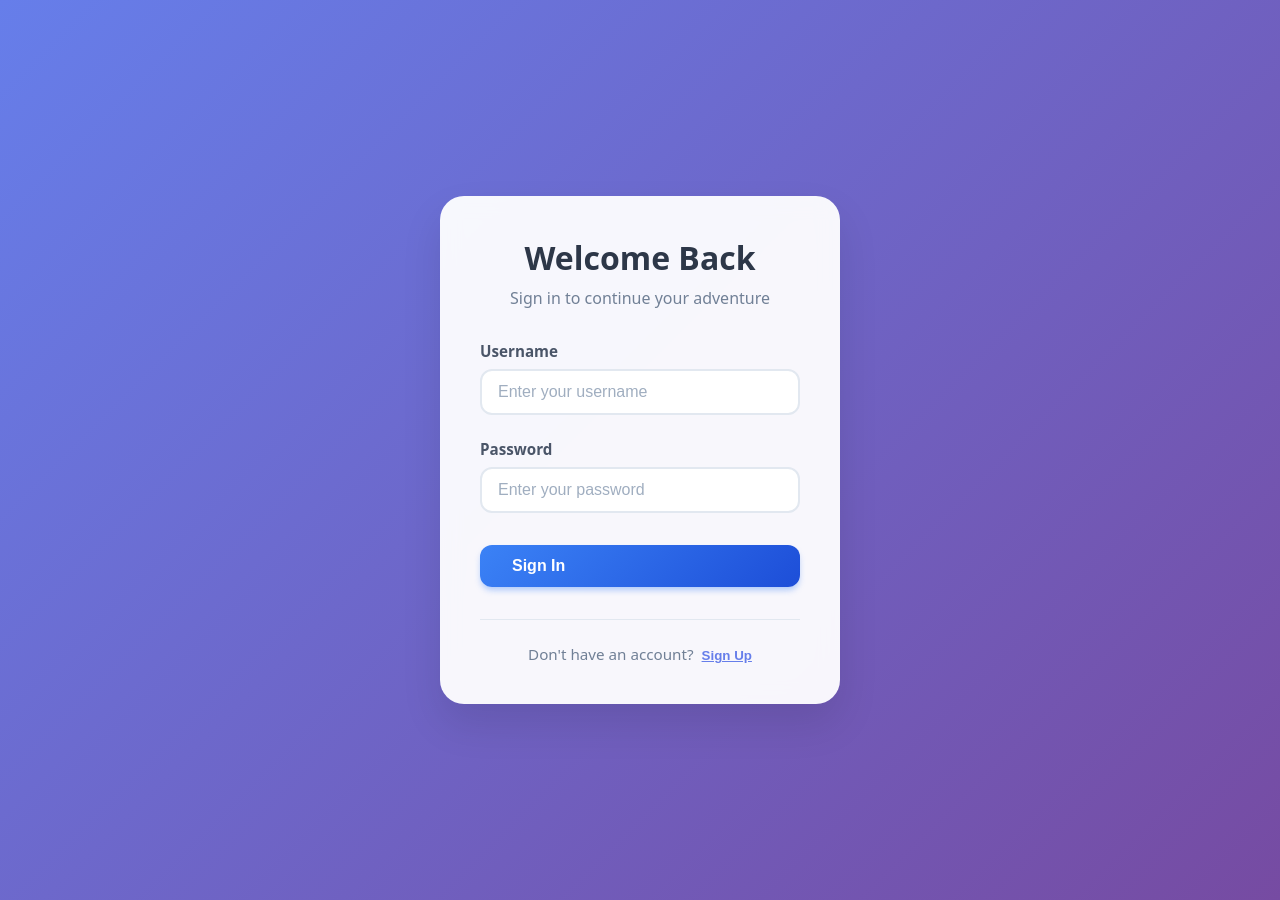
Scenario: LoginPage Frontend Tests › UI State Changes › should show loading state during form submission
This screenshot has width=1280, height=900.
In the field labelled "Username": coordinates (640, 392) [480,369,800,415], type "testuser"
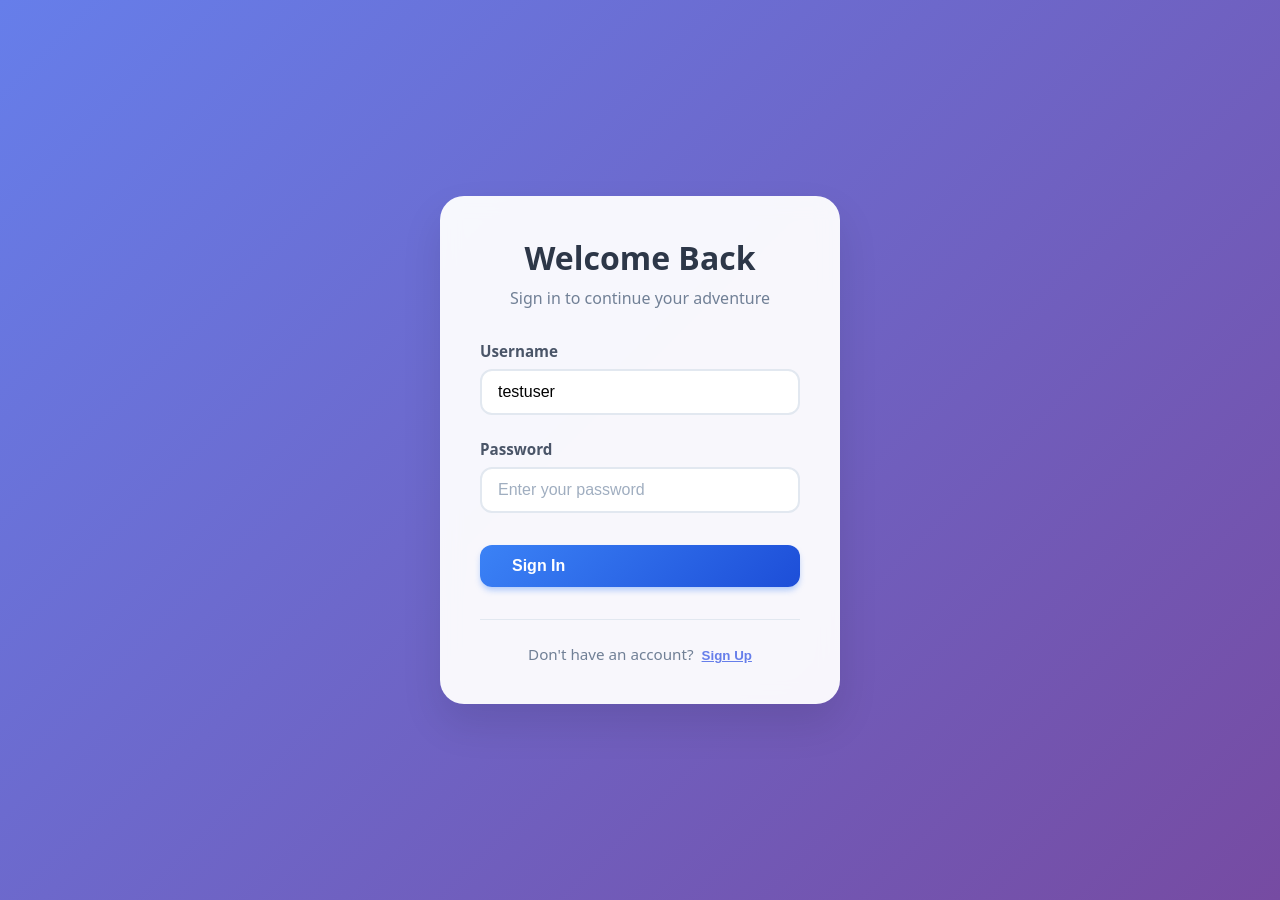
In the password field labelled "Password": coordinates (640, 490) [480,467,800,513], type "testpass"
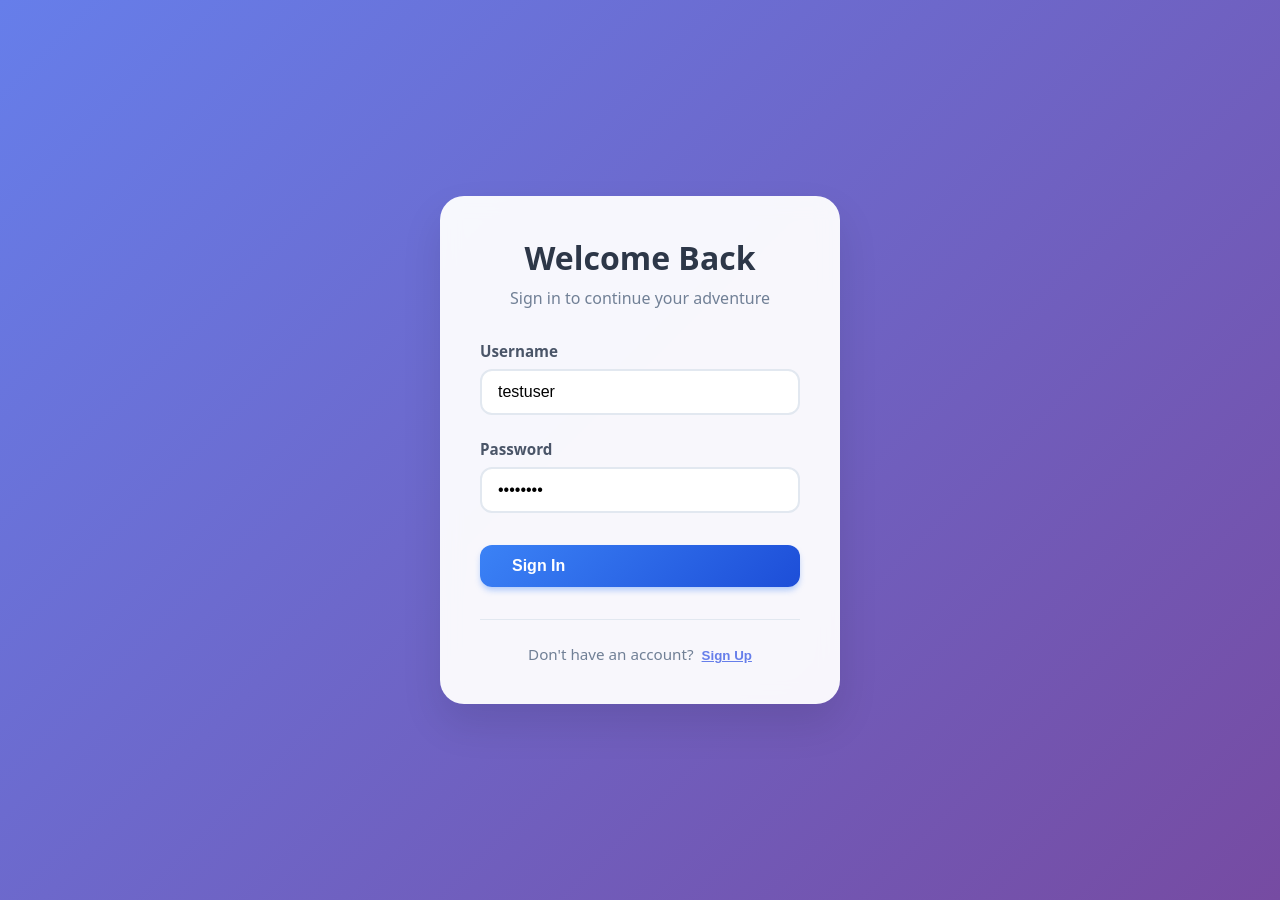
Click the button "Sign In": coordinates (539, 566) [480,545,800,587]
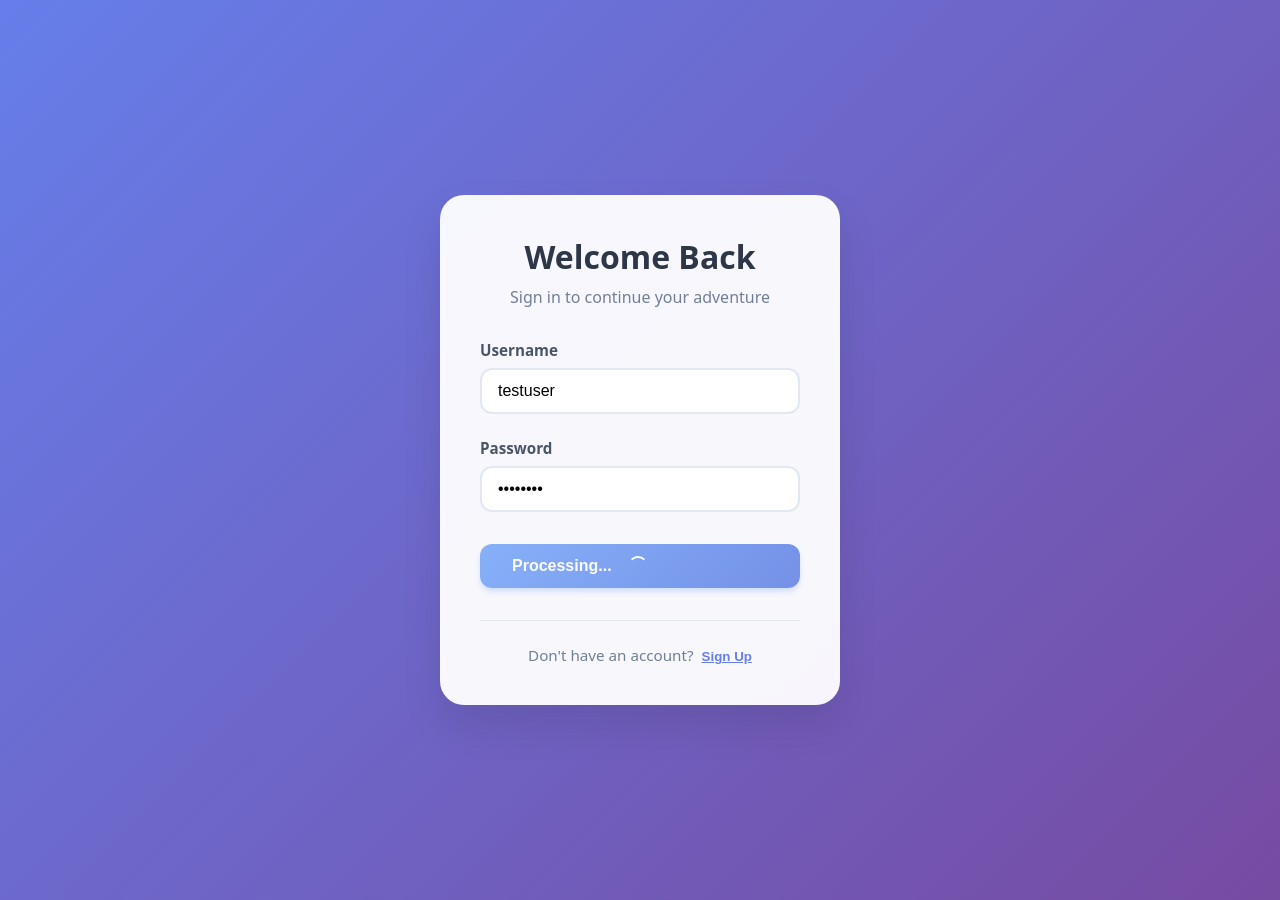
Check: the button "Processing..." is disabled, box [480,544,800,588]
